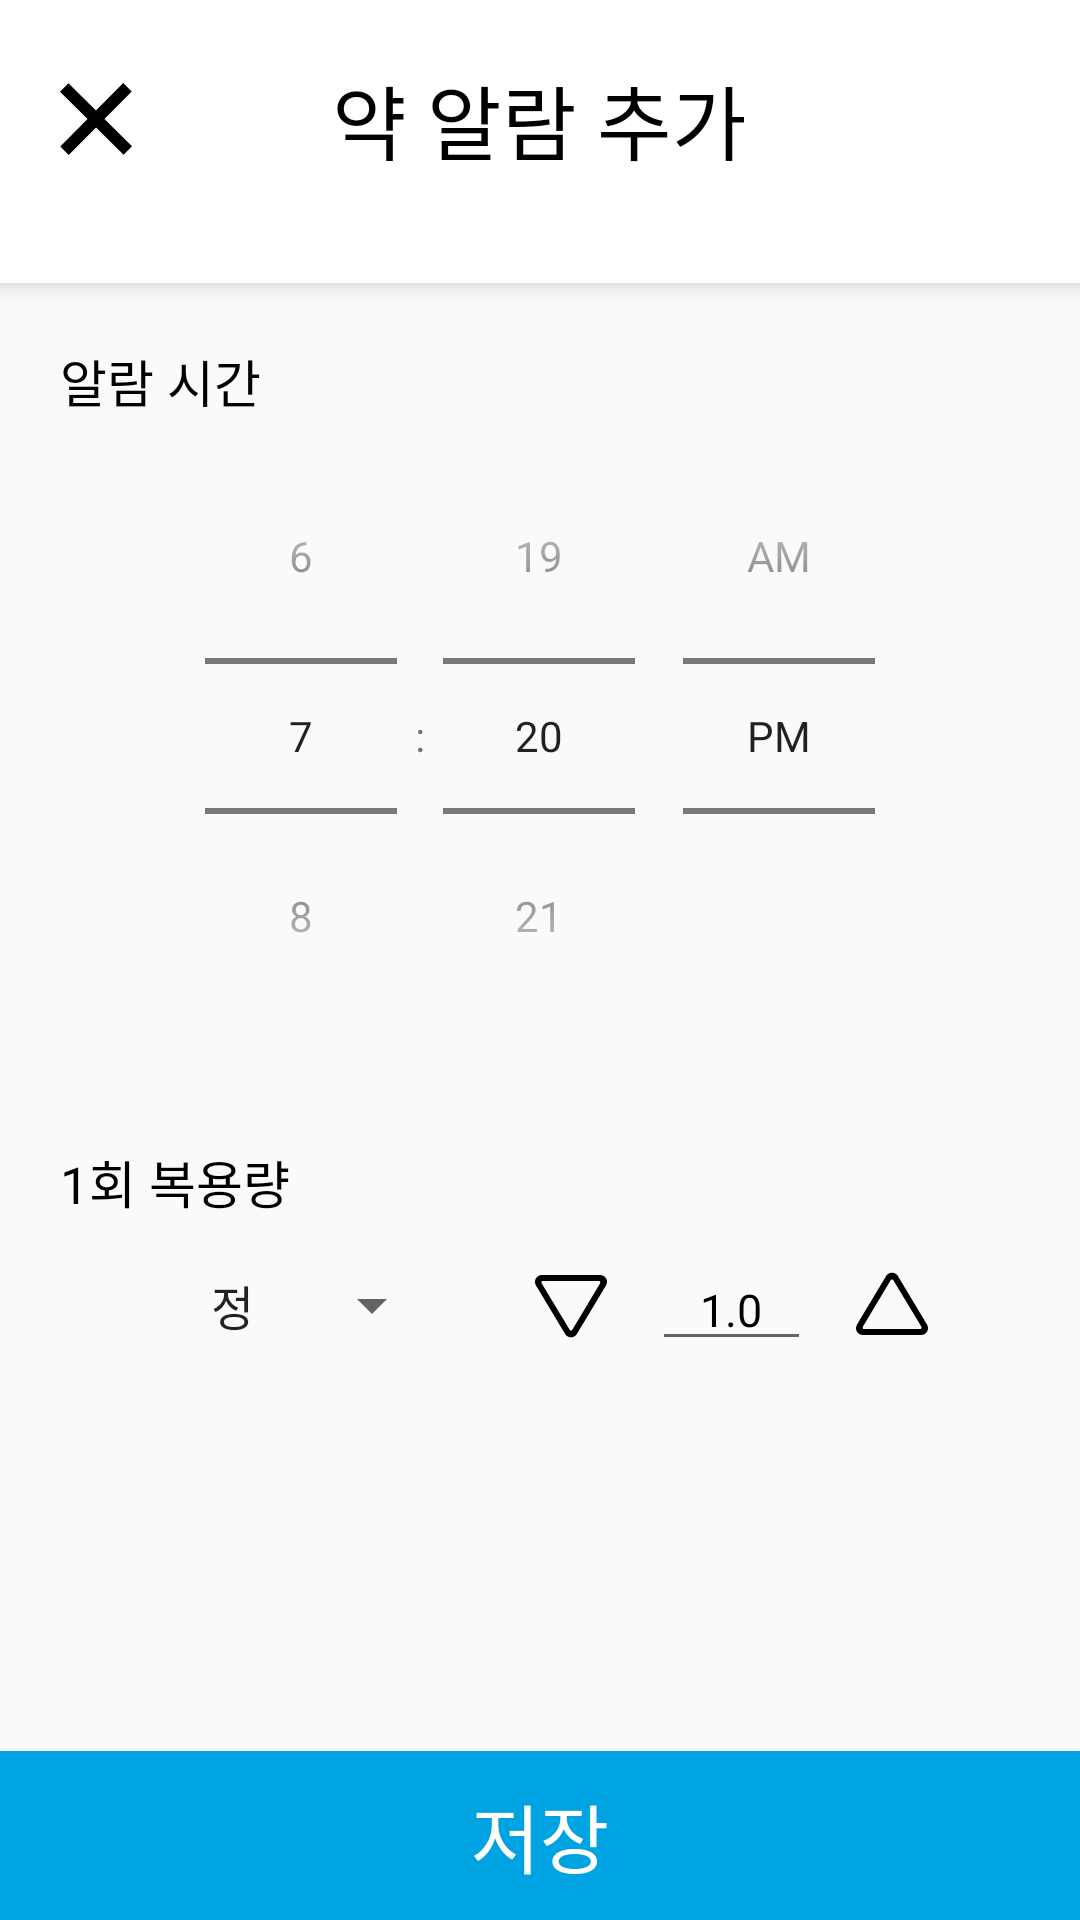

Named icons in this screenshot (1080x1920) and their centers, point (x, y):
delete: point (96, 119)
down triangle: point (571, 1306)
up triangle: point (892, 1303)
